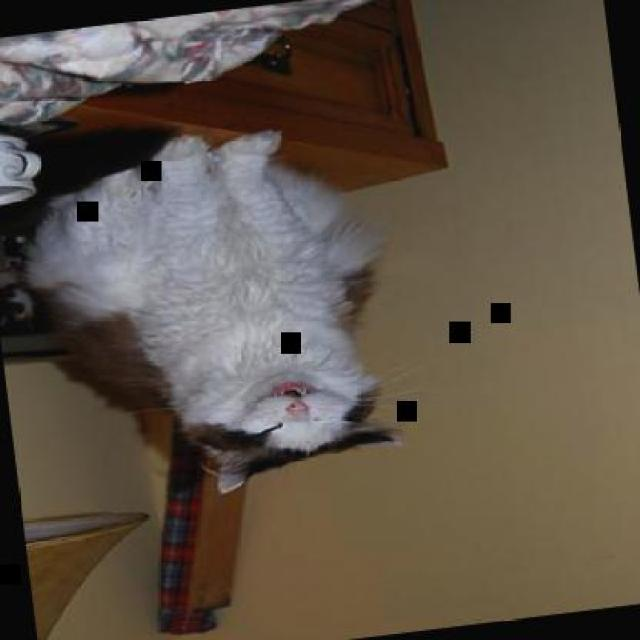cat: (11, 114, 407, 512)
